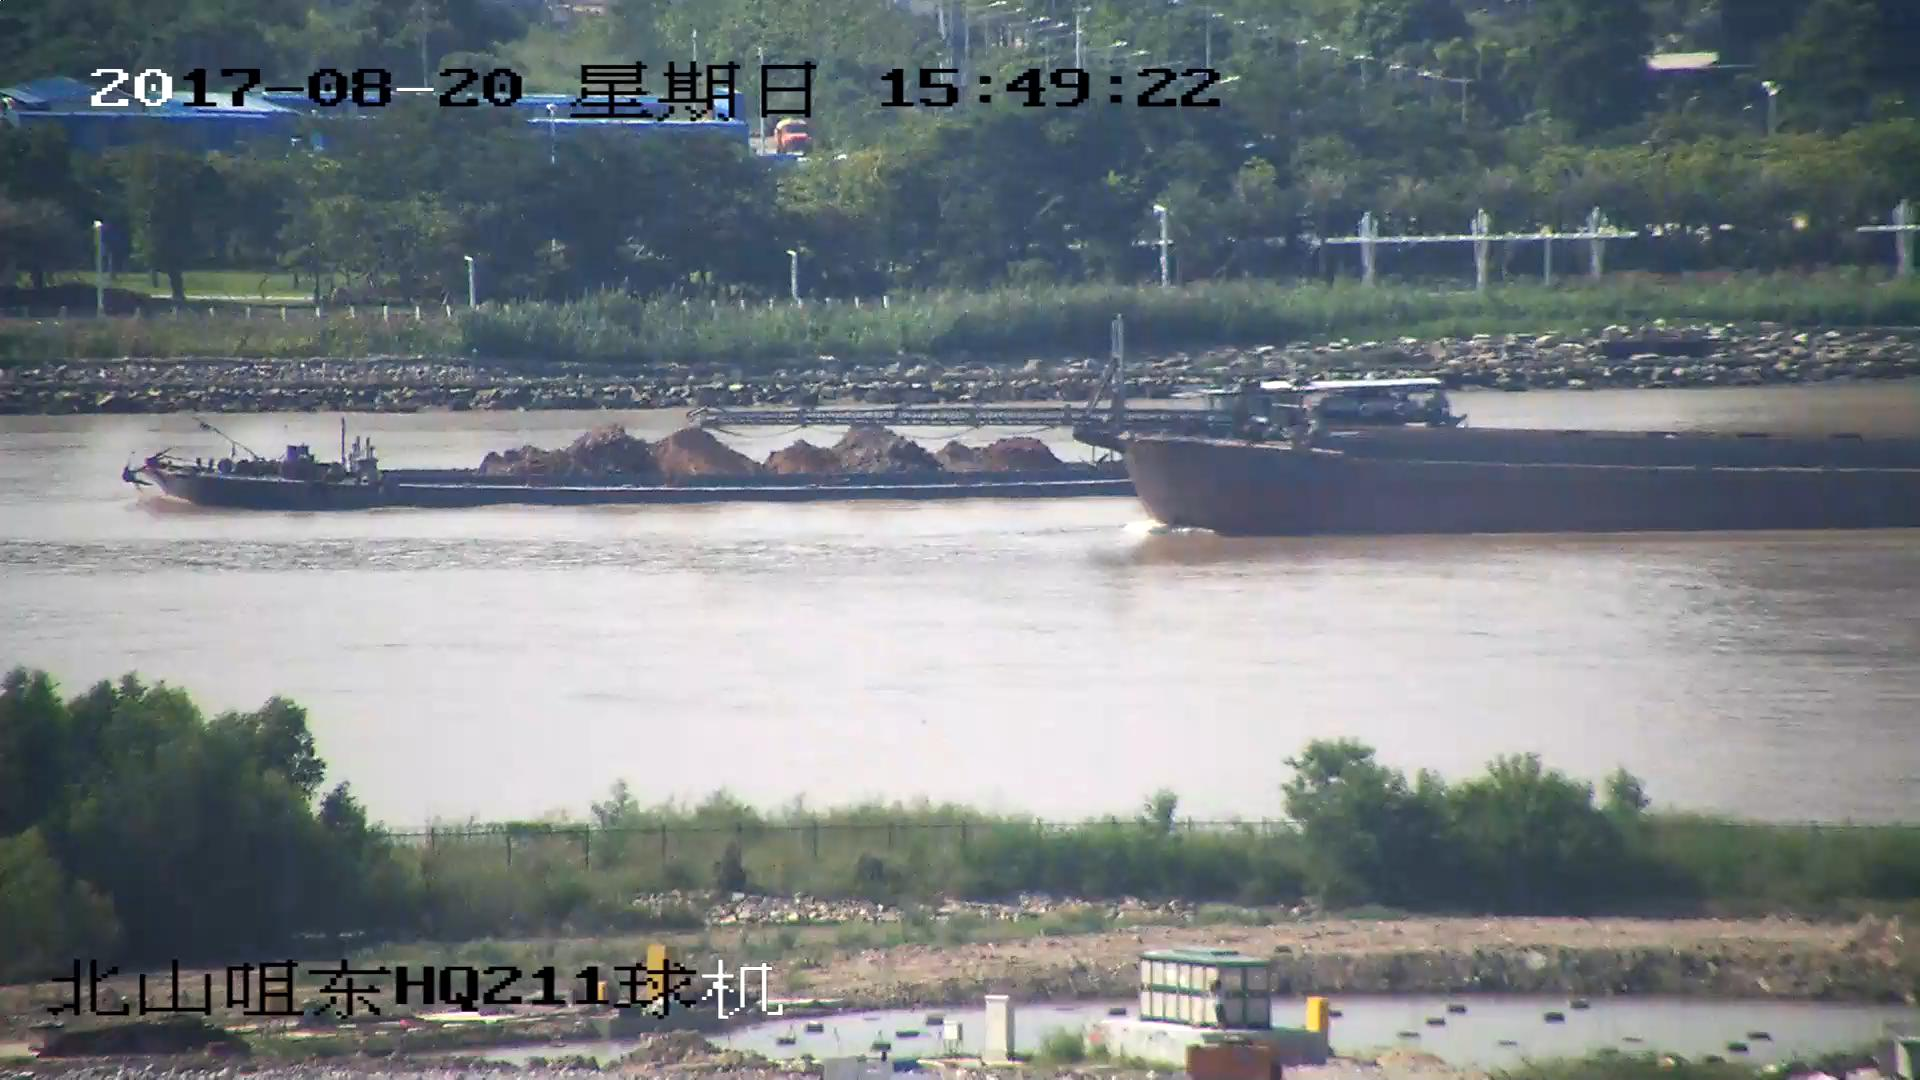bulk cargo carrier: (718, 324, 1920, 539)
ore carrier: (123, 365, 1455, 516)
